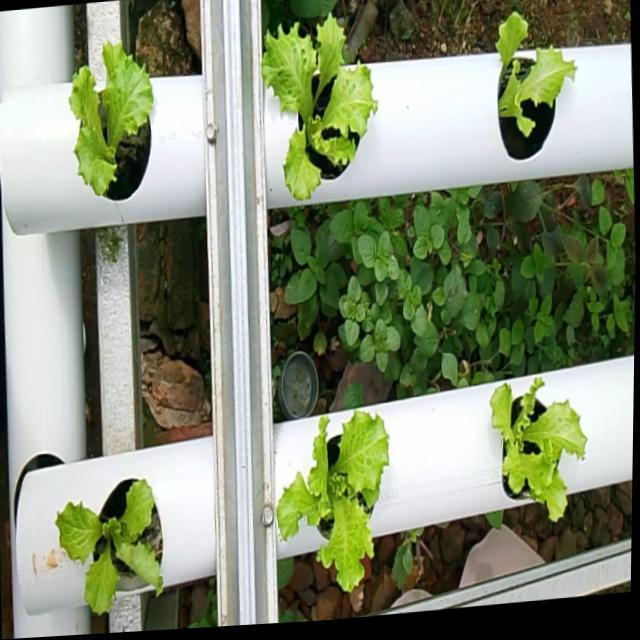Baby: (261, 7, 376, 196), (276, 404, 387, 585), (55, 471, 163, 608), (488, 373, 583, 517), (70, 37, 153, 195), (495, 12, 574, 159)
